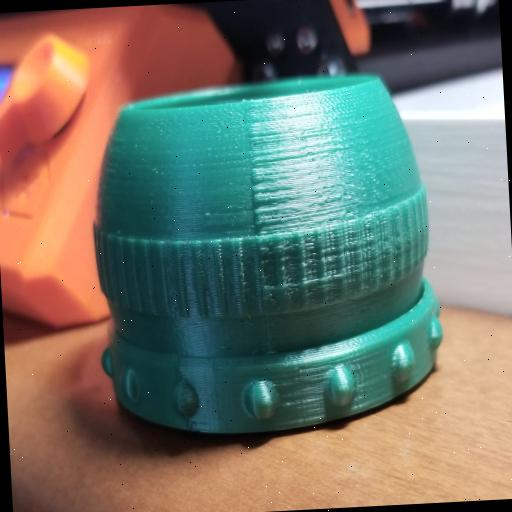blobs: (238, 108, 280, 234)
